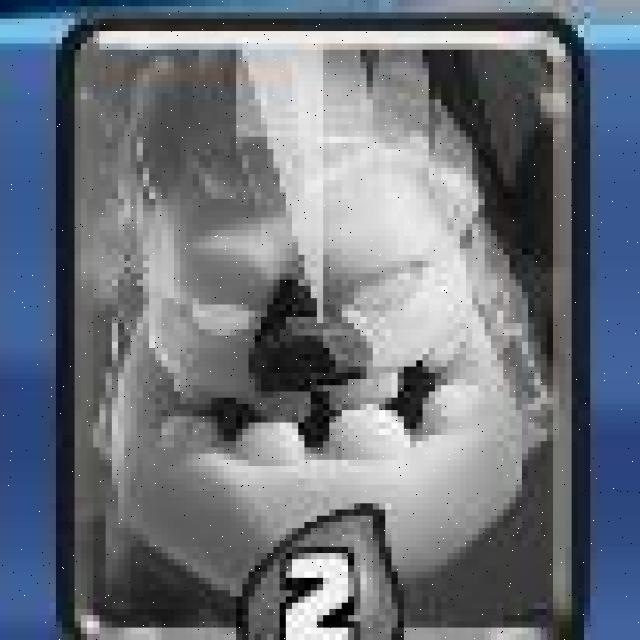Ice_Golem: (54, 13, 588, 640)
